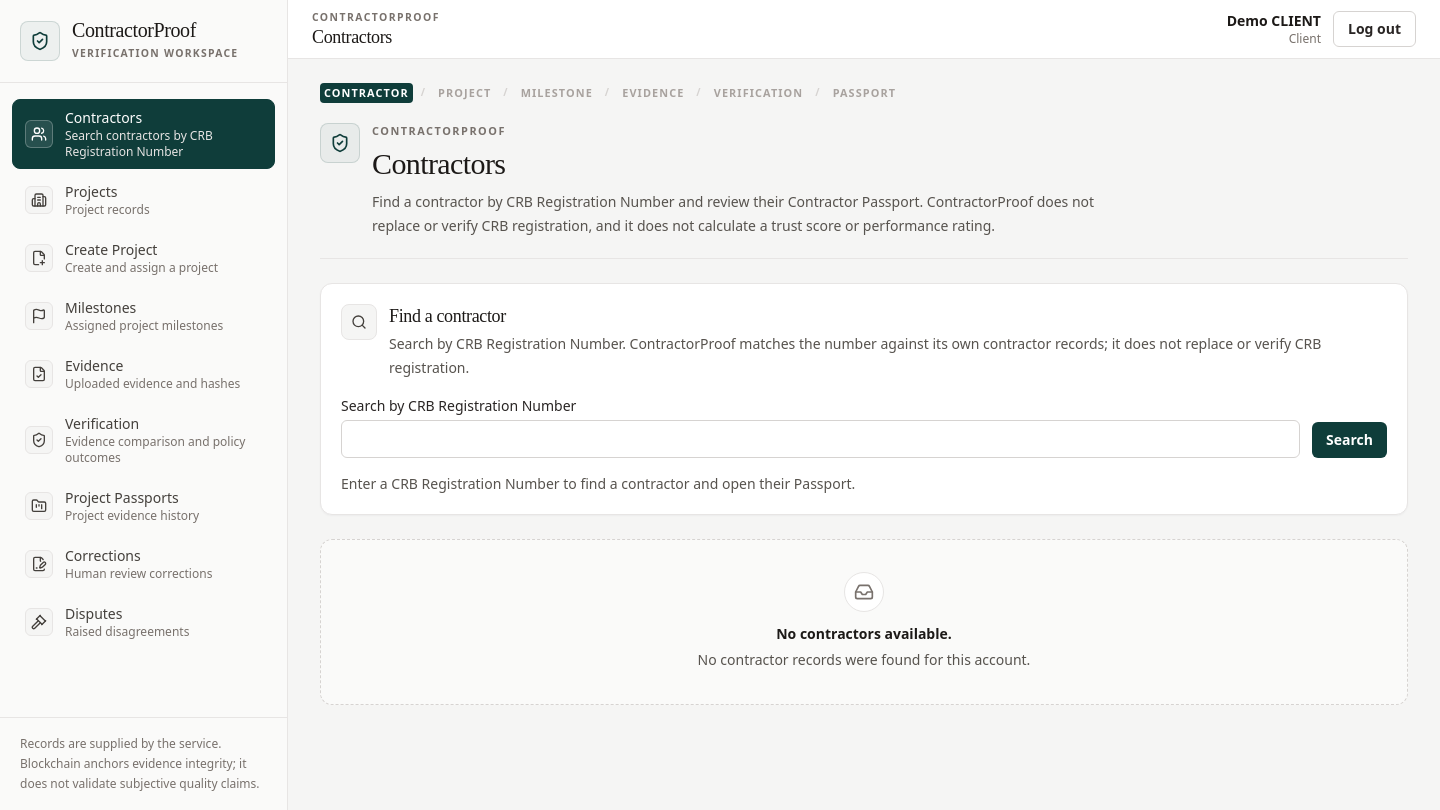
Test: contractor discovery by CRB Registration Number › returns the matching ContractorProof contractor for a CLIENT
Step 1. Type "CRB-204" into the field labelled "Search by CRB Registration Number" → x=821, y=440, box [341,420,1300,458]
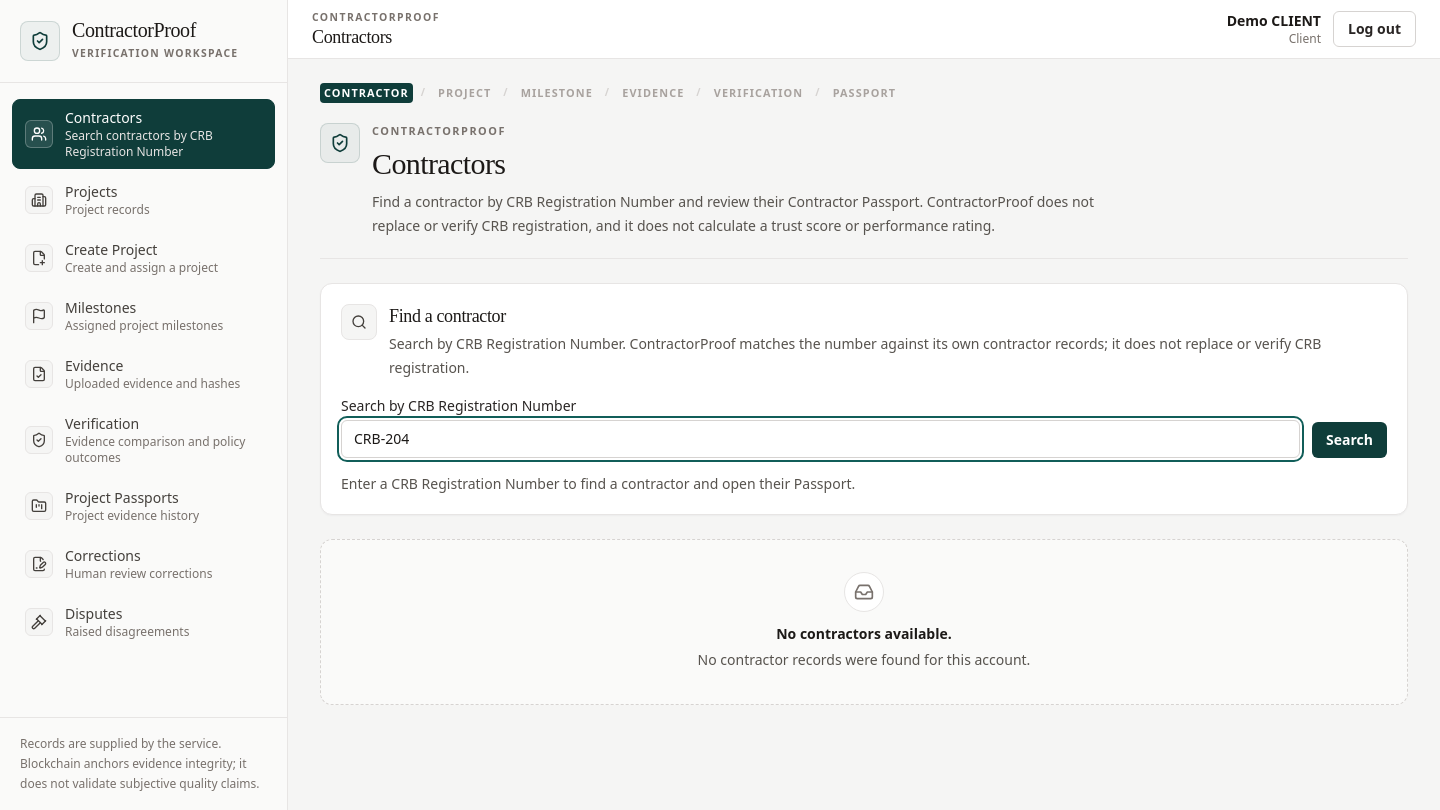
Step 2. Click the button "Search" → x=1350, y=440, box [1312,422,1387,458]
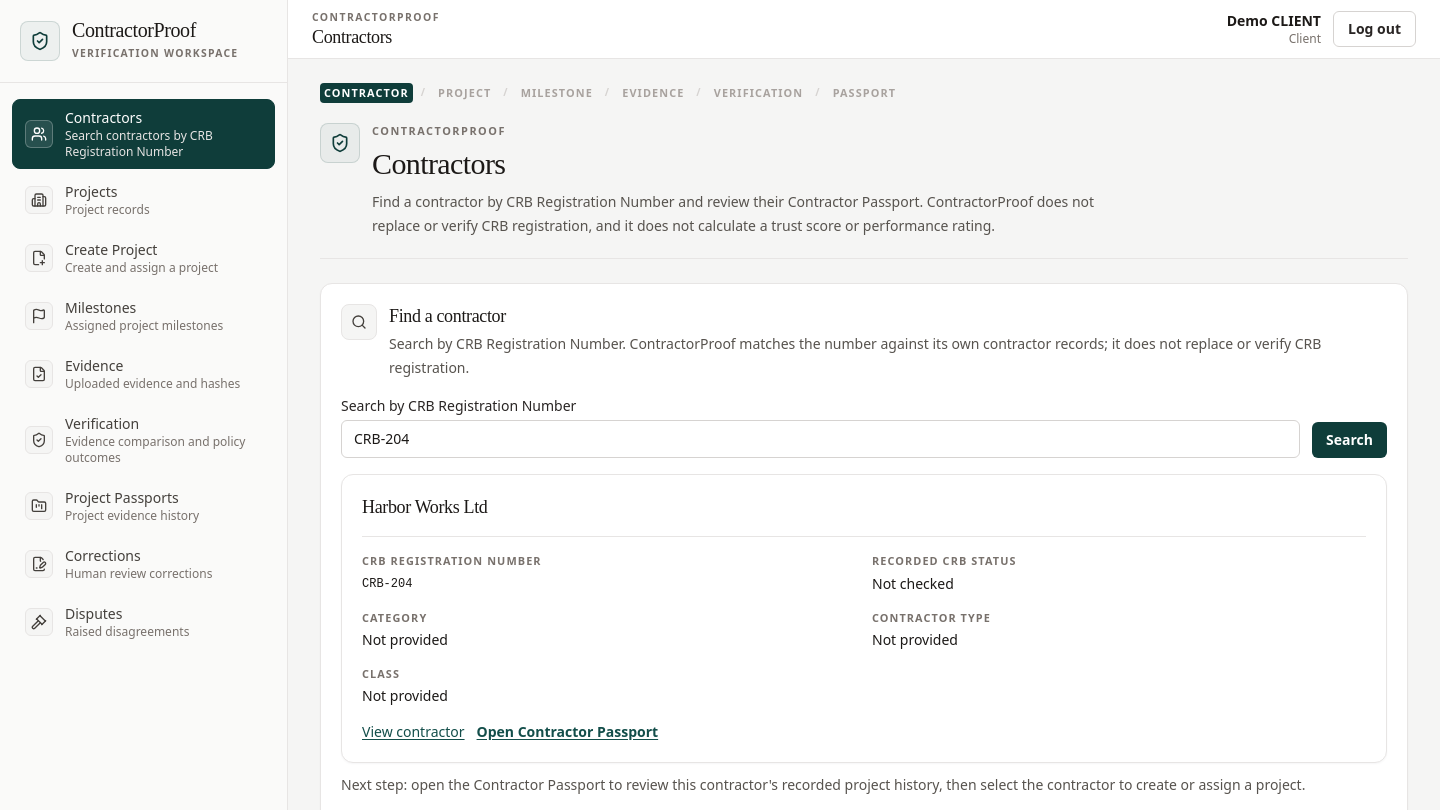
expect the heading "Harbor Works Ltd" is shown: met, box [362,498,487,518]
expect the text "CRB-204" is shown: met, box [362,576,412,590]
